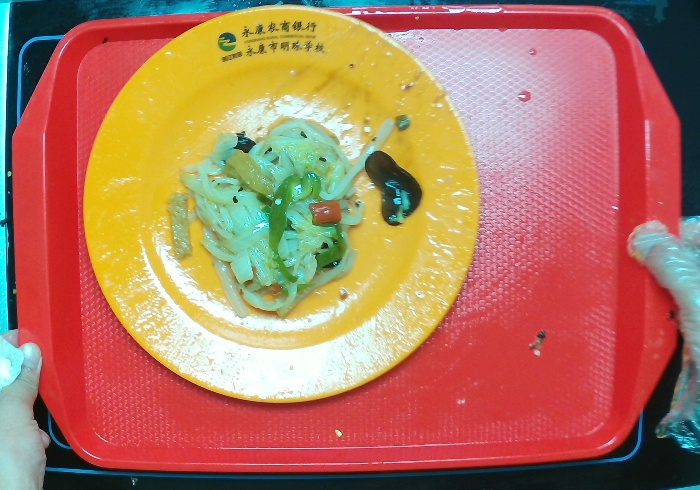YKMZ-Ju_Se_Mian_Pan: (76, 1, 491, 406)
